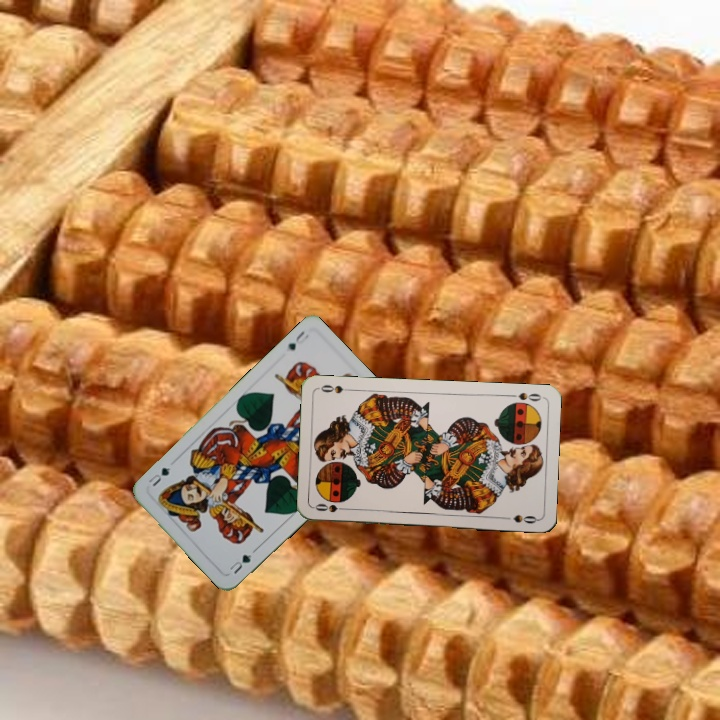GU: (225, 550, 254, 577), (284, 327, 311, 353)
SO: (504, 388, 544, 404), (311, 500, 352, 515)
